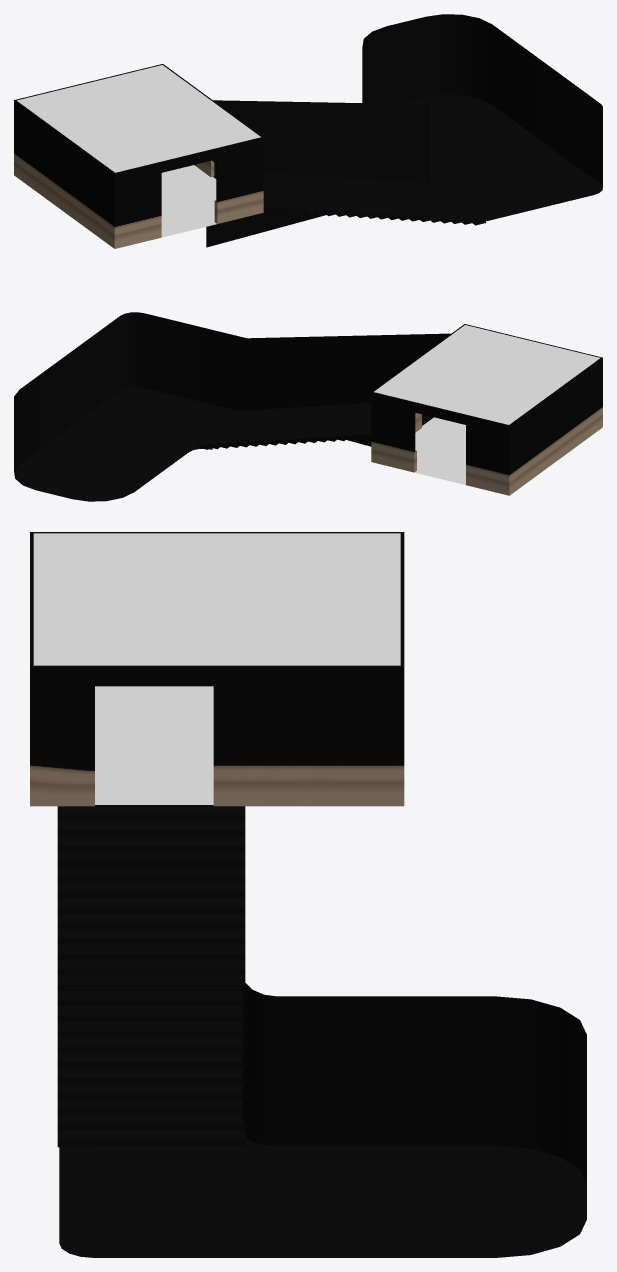
File: Room_06.fbx
The picture shows the model from 3 angles, top to bottom: view 1: azimuth 30°, elevation 25°; view 2: azimuth 150°, elevation 25°; view 3: azimuth 270°, elevation 25°; orthographic projection. The views are drawn at different scales.
Parts seen in each view (by area): view 1: Plane.004, Plane.002, Plane, Plane.001; view 2: Plane.004, Plane.002, Plane, Plane.001; view 3: Plane.004, Plane, Plane.002, Plane.001.
Part boxes in pixels (left/top/right/bottom): Plane.004: left=206, top=14, right=602, bottom=247; Plane.002: left=14, top=64, right=263, bottom=248; Plane: left=17, top=65, right=260, bottom=172; Plane.001: left=161, top=165, right=216, bottom=237; Plane.004: left=14, top=312, right=450, bottom=501; Plane.002: left=371, top=324, right=602, bottom=495; Plane: left=374, top=325, right=599, bottom=424; Plane.001: left=415, top=417, right=465, bottom=484; Plane.004: left=57, top=805, right=586, bottom=1257; Plane: left=33, top=533, right=400, bottom=665; Plane.002: left=30, top=532, right=404, bottom=806; Plane.001: left=95, top=686, right=213, bottom=804.
Bounding box in the file's own units: 588 × 170 × 304.
